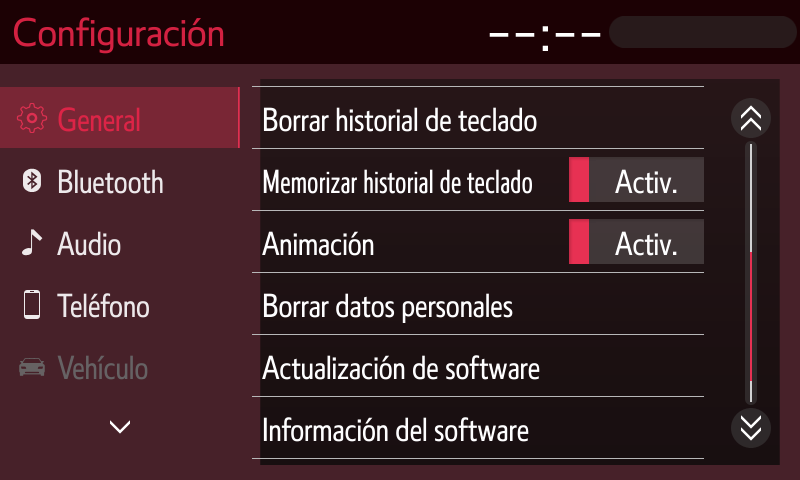touchPart: (248, 269, 707, 343), (251, 209, 707, 283), (246, 330, 706, 403), (254, 79, 713, 152), (236, 392, 711, 462), (252, 145, 712, 216), (13, 284, 175, 325), (13, 220, 171, 259), (15, 163, 176, 201), (727, 94, 772, 138), (731, 408, 774, 452), (108, 414, 140, 442)
untouchPart: (1, 83, 246, 148), (483, 9, 795, 54), (4, 13, 243, 50), (13, 347, 164, 388)
